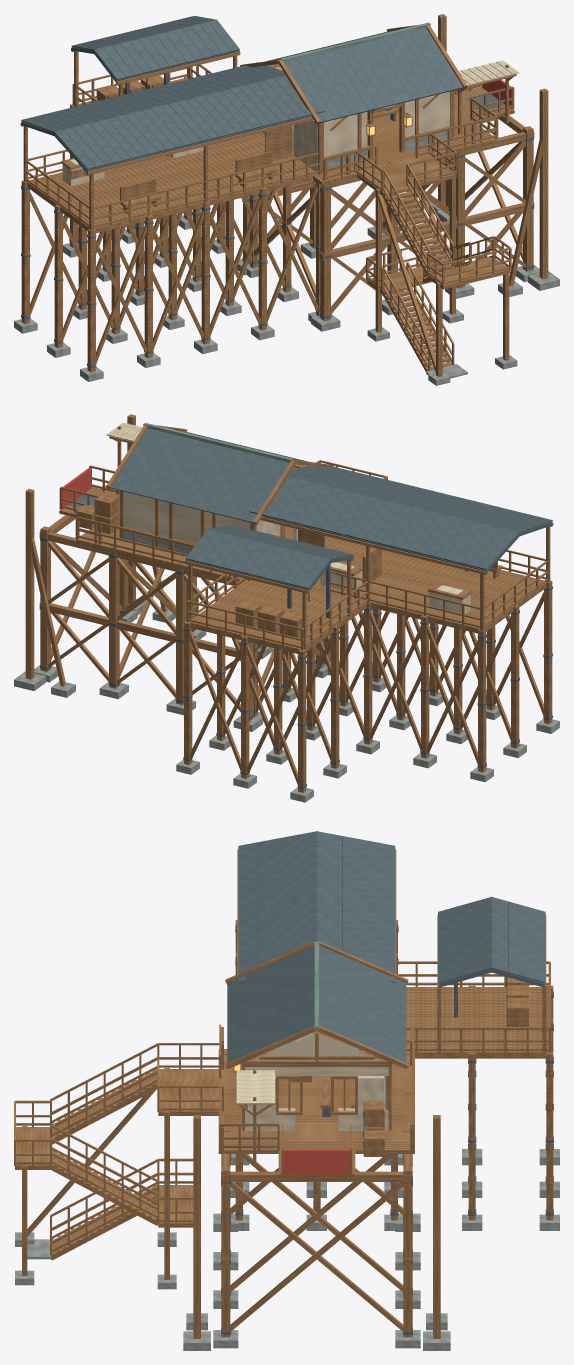
The picture shows the model from 3 angles, top to bottom: view 1: azimuth 30°, elevation 25°; view 2: azimuth 150°, elevation 25°; view 3: azimuth 270°, elevation 25°; orthographic projection. The views are drawn at different scales.
Parts seen in each view (by area): view 1: Mooring full-height pylon, Arrival landing at 8m, Front plaster bay, Station high timber column, Longitudinal structural girder, Front plaster bay.001, Eight metre timber.018, Eight metre timber.020, Eight metre timber.019, Station high timber column.006, Eight metre timber.003, Eight metre timber.021 (+36 smaller); view 2: Rear plaster wall, Mooring full-height pylon.001, Longitudinal structural girder.002, Station high timber column.005, Eight metre timber.011, Eight metre timber.020, Eight metre timber.010, Eight metre timber.019, Eight metre timber.018, Station high timber column.003, Eight metre timber.017, Eight metre timber.023 (+34 smaller); view 3: Arrival landing at 8m, Mooring full-height pylon.001, Mooring full-height pylon, Closed platform safety gate, Station high timber column.007, Station high timber column.006, Cross bay diagonal.002, Cross bay reverse diagonal.002, Cross structural girder.002, Gable plaster infill.001, Eight metre timber.017, Eight metre timber.016 (+15 smaller).
Boxes of the visible parts, left/top/right/bottom form: Mooring full-height pylon: left=539, top=88, right=548, bottom=279; Arrival landing at 8m: left=355, top=154, right=456, bottom=194; Front plaster bay: left=324, top=112, right=367, bottom=156; Station high timber column: left=320, top=176, right=330, bottom=320; Longitudinal structural girder: left=319, top=203, right=534, bottom=260; Front plaster bay.001: left=405, top=91, right=450, bottom=136; Eight metre timber.018: left=87, top=229, right=95, bottom=372; Eight metre timber.020: left=21, top=180, right=29, bottom=323; Eight metre timber.019: left=54, top=204, right=62, bottom=347; Station high timber column.006: left=523, top=126, right=533, bottom=271; Eight metre timber.003: left=258, top=187, right=266, bottom=330; Eight metre timber.021: left=144, top=215, right=152, bottom=358; Rear plaster wall: left=123, top=492, right=249, bottom=543; Mooring full-height pylon.001: left=25, top=489, right=34, bottom=679; Longitudinal structural girder.002: left=39, top=603, right=254, bottom=658; Station high timber column.005: left=109, top=543, right=119, bottom=688; Eight metre timber.011: left=298, top=649, right=306, bottom=792; Eight metre timber.020: left=478, top=629, right=486, bottom=772; Eight metre timber.010: left=331, top=625, right=339, bottom=768; Eight metre timber.019: left=511, top=605, right=519, bottom=748; Eight metre timber.018: left=544, top=580, right=552, bottom=723; Station high timber column.003: left=176, top=559, right=186, bottom=704; Eight metre timber.017: left=184, top=621, right=192, bottom=764; Eight metre timber.023: left=421, top=615, right=429, bottom=758; Arrival landing at 8m: left=158, top=1069, right=222, bottom=1115; Mooring full-height pylon.001: left=433, top=1115, right=440, bottom=1338; Mooring full-height pylon: left=193, top=1115, right=200, bottom=1338; Closed platform safety gate: left=283, top=1149, right=349, bottom=1174; Station high timber column.007: left=403, top=1167, right=412, bottom=1337; Station high timber column.006: left=221, top=1167, right=230, bottom=1337; Cross bay diagonal.002: left=230, top=1182, right=403, bottom=1331; Cross bay reverse diagonal.002: left=230, top=1182, right=403, bottom=1331; Cross structural girder.002: left=221, top=1171, right=403, bottom=1181; Gable plaster infill.001: left=254, top=1034, right=379, bottom=1060; Eight metre timber.017: left=546, top=1051, right=553, bottom=1220; Eight metre timber.016: left=468, top=1051, right=475, bottom=1220.
Size of the model in its own units: 25.66 by 13.1 by 22.79.
19 materials, 14 textured.
